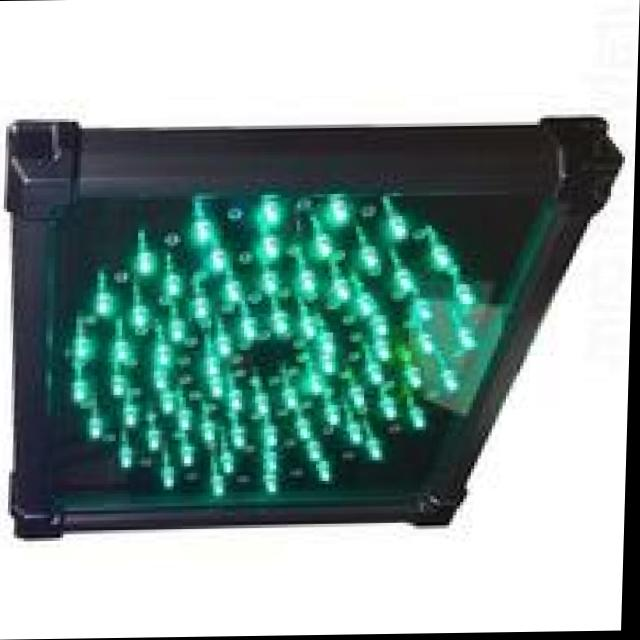green_light: (58, 137, 453, 530)
